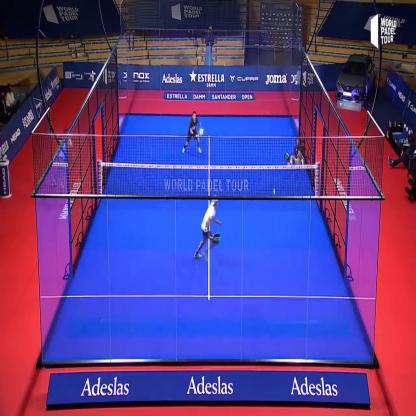ball: (270, 186, 278, 196)
